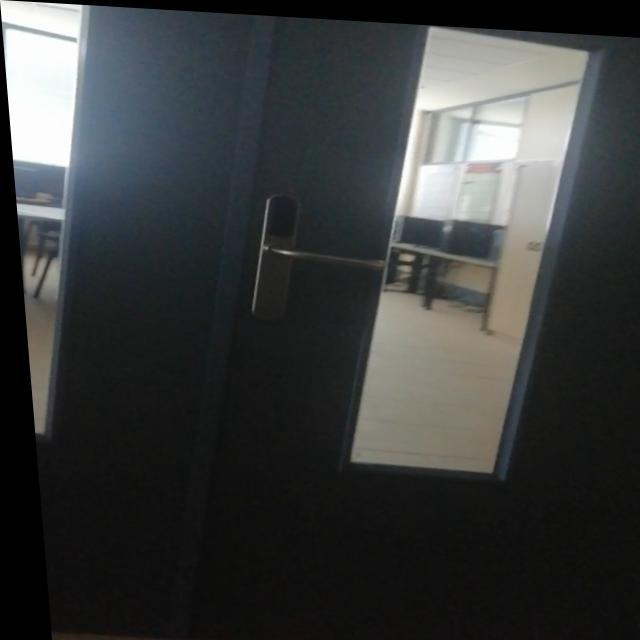door_handle: (254, 239, 393, 270)
